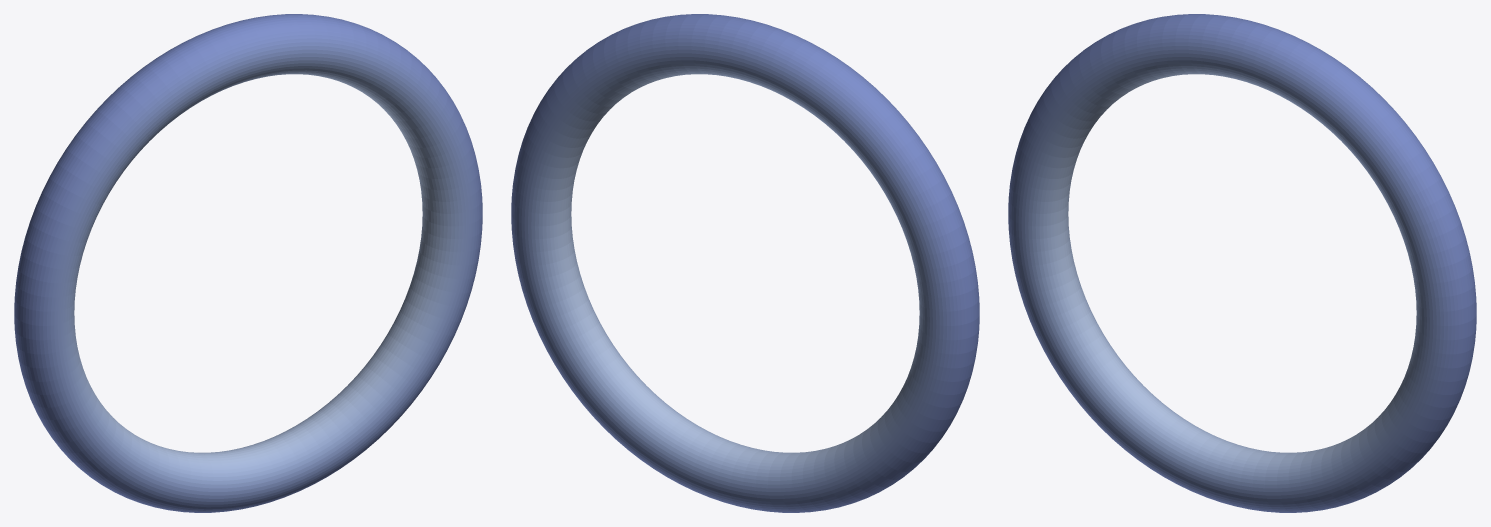
3 views of the same model, side by side, from view 1: azimuth 30°, elevation 25°; view 2: azimuth 150°, elevation 25°; view 3: azimuth 330°, elevation 25° (orthographic).
Parts seen in each view (by area): view 1: world; view 2: world; view 3: world.
Part boxes in pixels (<box>): world: <box>14,14,482,512</box>; world: <box>511,14,979,512</box>; world: <box>1008,14,1476,512</box>.
Bounding box in the file's own units: 27.07 × 27.07 × 3.06.
